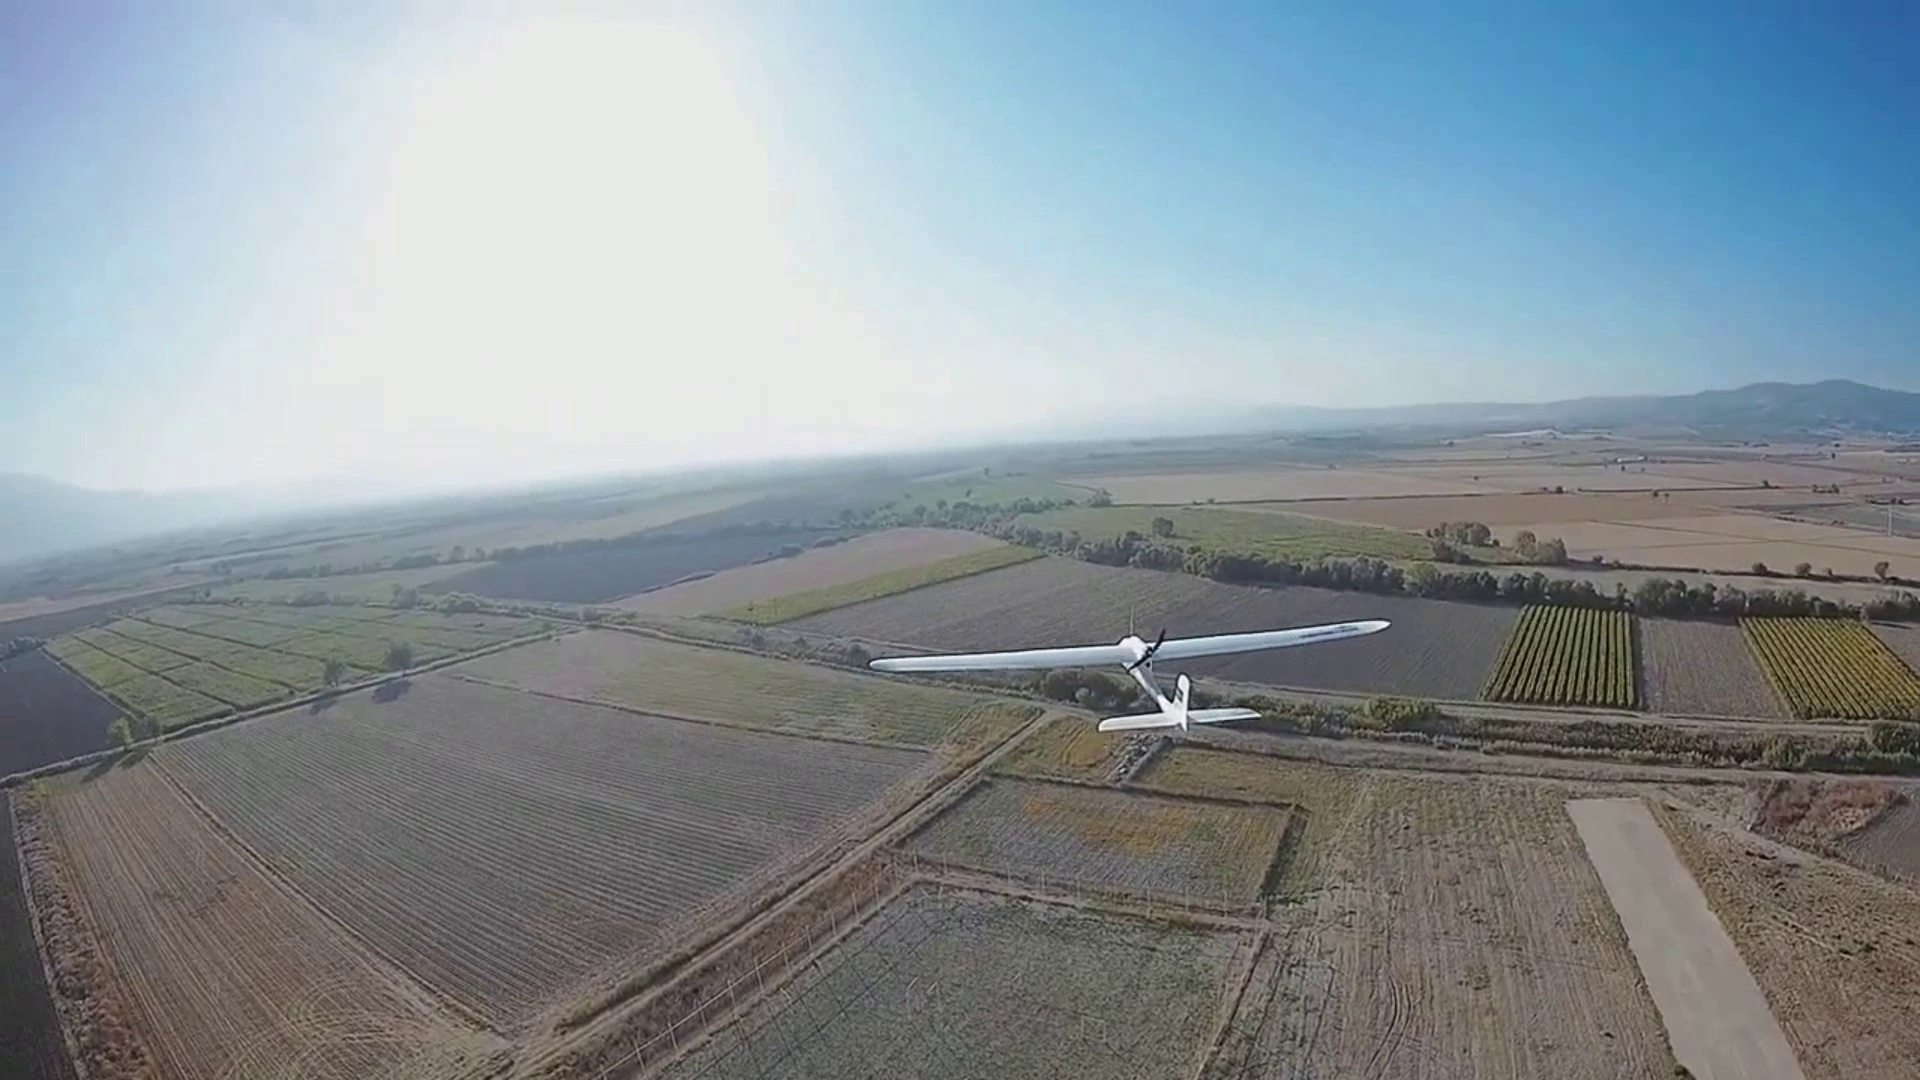airplane: (864, 615, 1393, 729)
